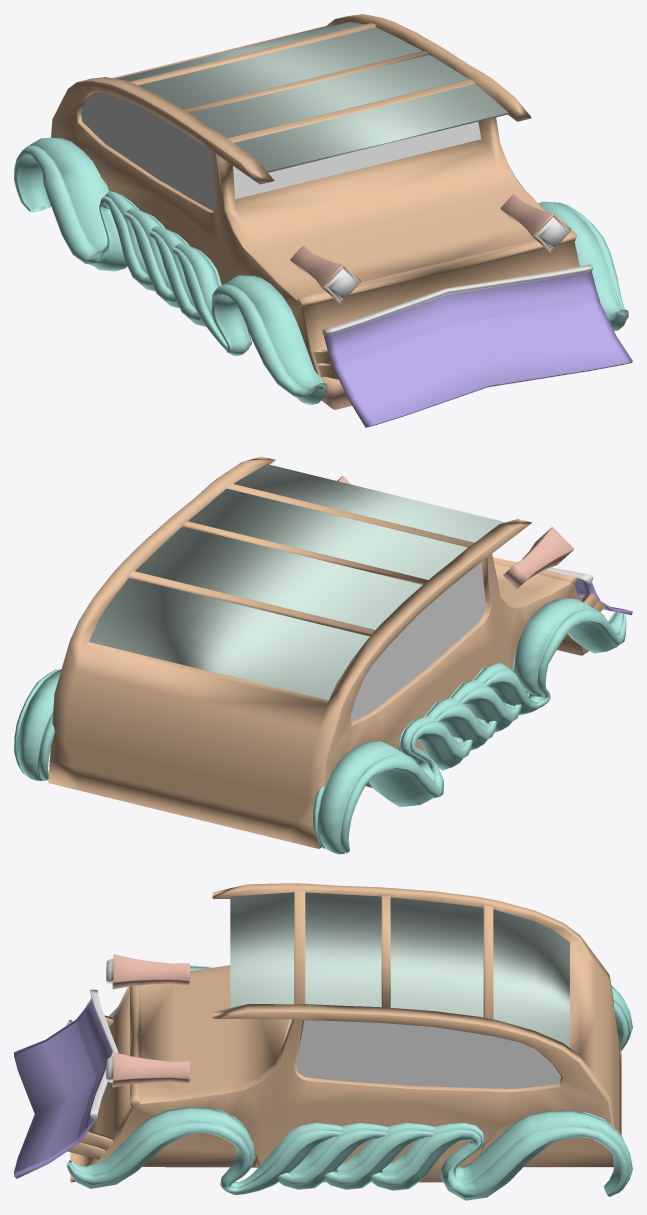
The model's file is MVP.Car.Tank.01.3.fbx.
3 views of the same model, one above another, from view 1: azimuth 30°, elevation 25°; view 2: azimuth 150°, elevation 25°; view 3: azimuth 270°, elevation 25° (orthographic). The views are drawn at different scales.
Visible parts, largest first — view 1: Plane; view 2: Plane; view 3: Plane.
Part boxes in pixels (bbox=[...]): Plane: bbox=[14, 14, 632, 427]; Plane: bbox=[14, 456, 632, 854]; Plane: bbox=[14, 883, 632, 1200].
Bounding box in the file's own units: 2395 × 1167 × 3614.
